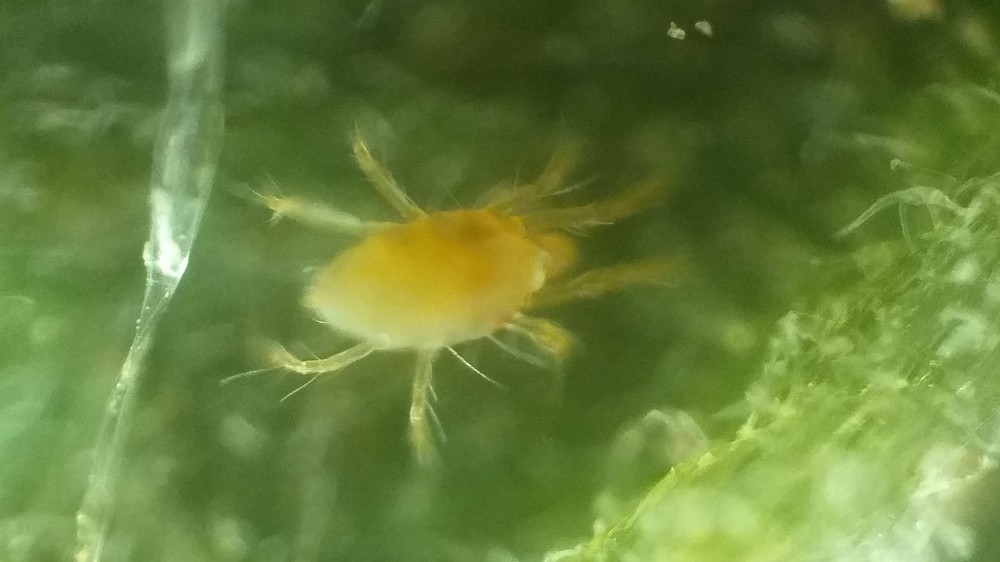Aracnido Rojo: (238, 119, 732, 454)
